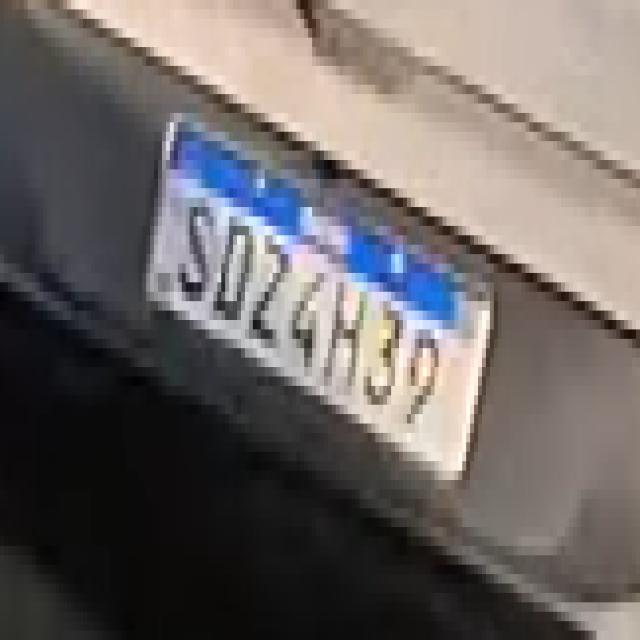Placa_mercosul_carro: (143, 112, 492, 482)
